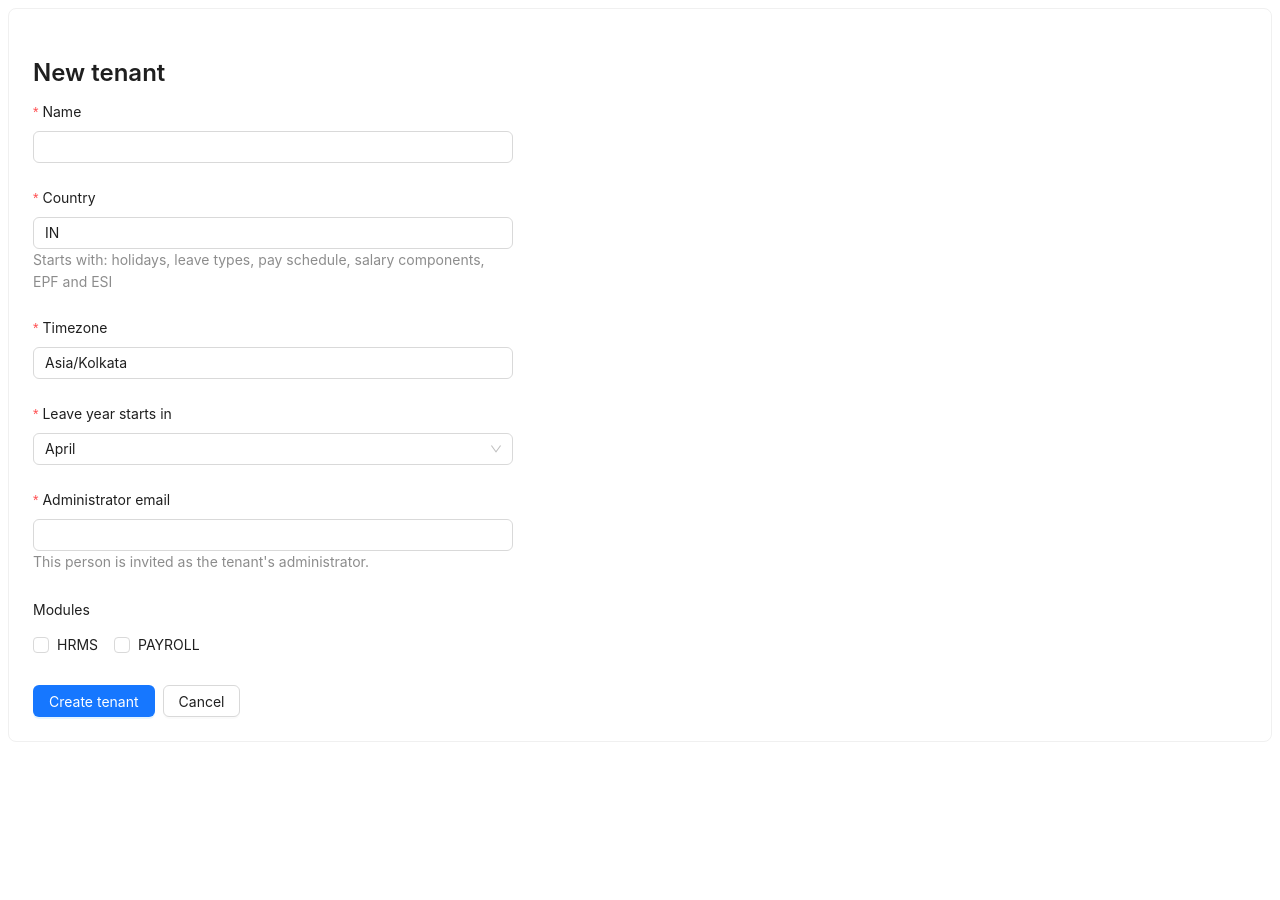
Scenario: TenantCreate › W-73.9: under Country, says what an IN tenant starts with, and "No template" for AE
Expected: the text "Starts with: holidays, leave types, pay schedule, salary components, EPF and ESI" is shown, [33,249,513,293]
Replace the text in the field labelled "Country" with "ae" at [273, 233], box [33,217,513,249]
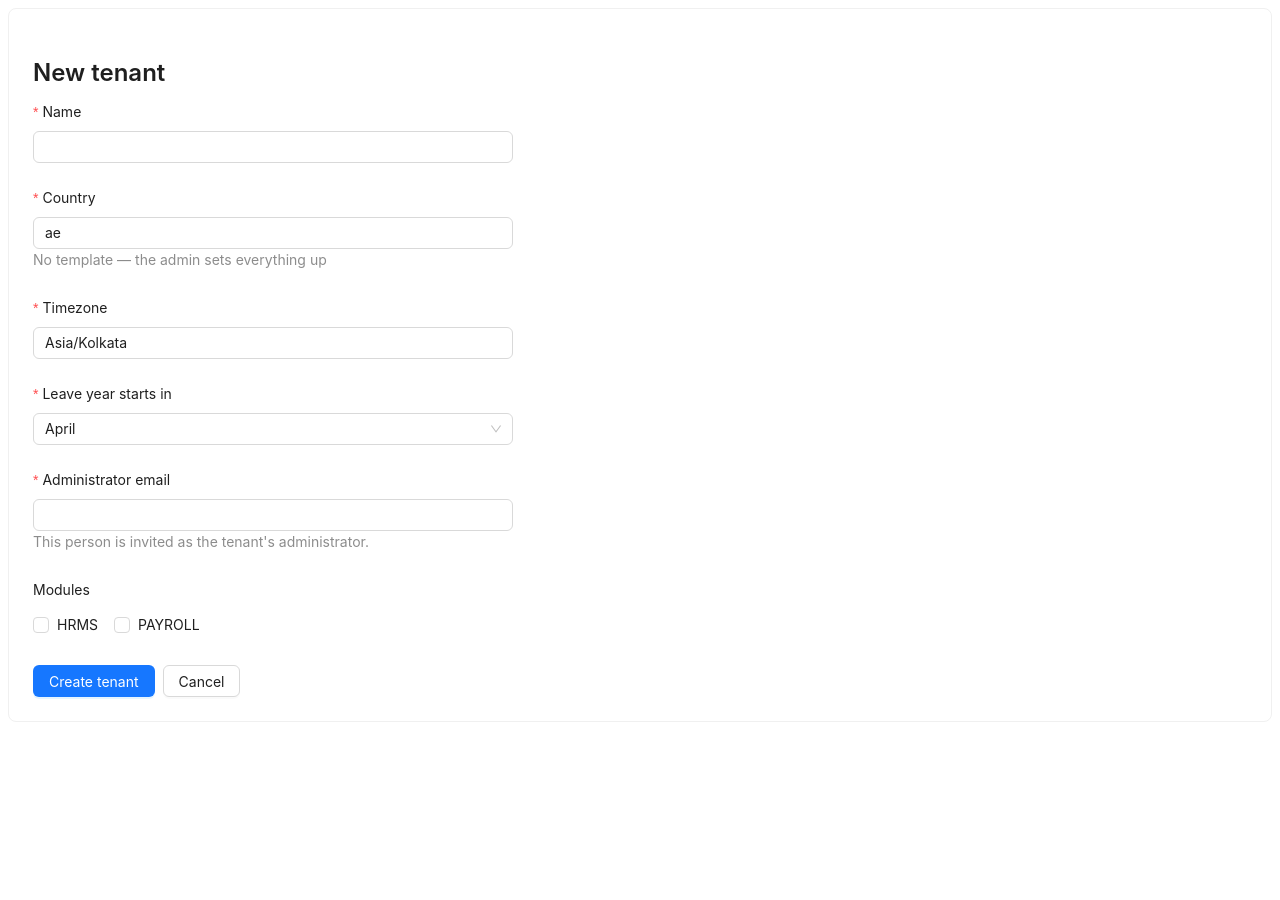
Result: the text "No template — the admin sets everything up" is shown at [33,251,327,268]
